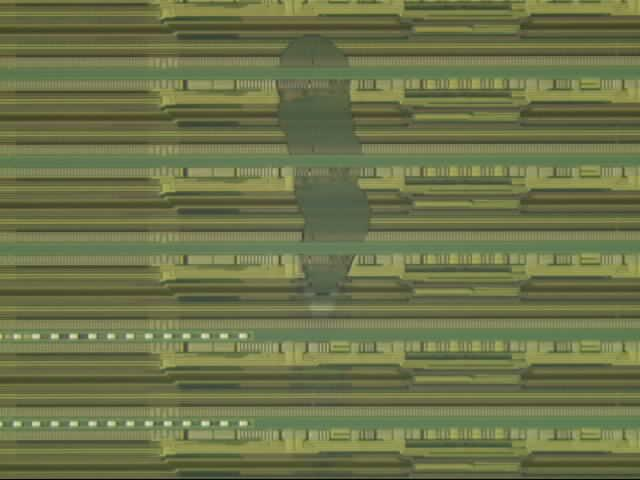BLOCK ETCH: (273, 34, 371, 294)
